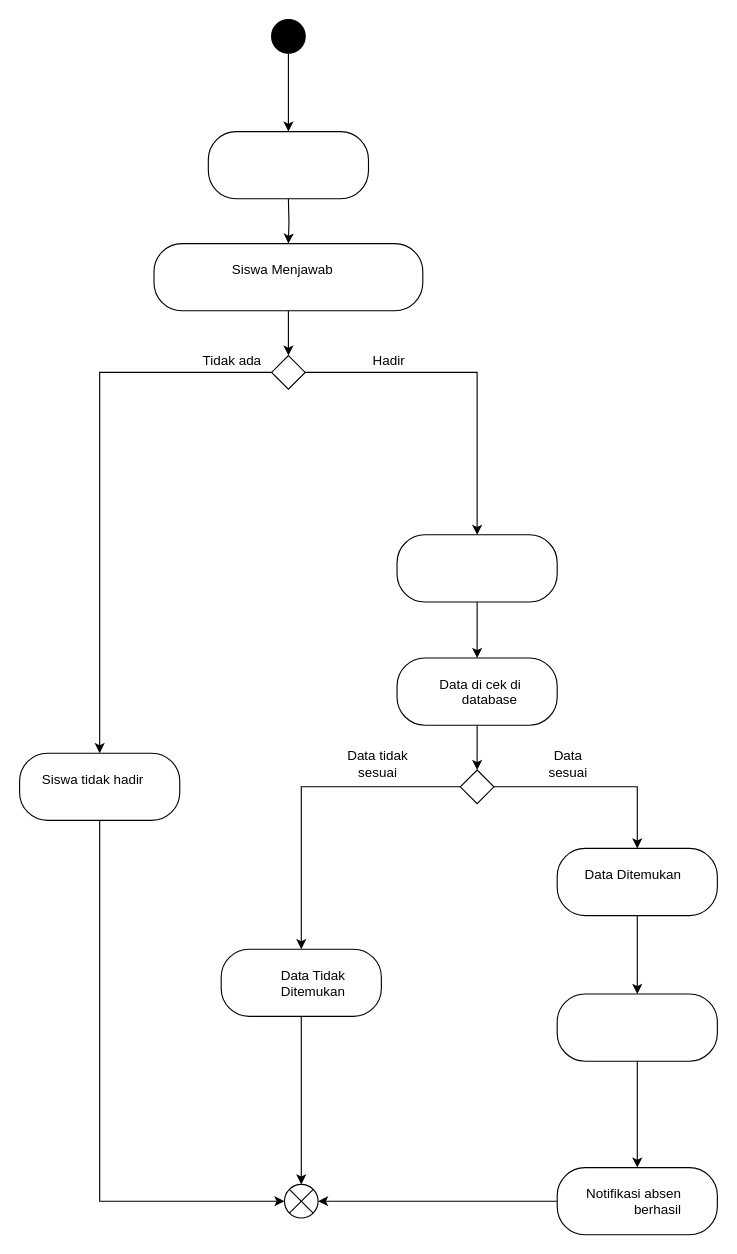
This 737x1254 diagram has some shape labels left out. Here are the shapes that lost their labels. From the top down, the centre of each, then its label:
At point 287,164: "Guru Memanggil".
At point 476,568: "Siswa Absen".
At point 636,1027: "Absen Berhasil".
